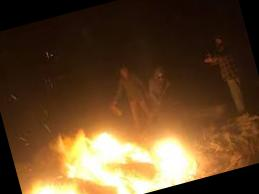Fire: (7, 95, 202, 194)
